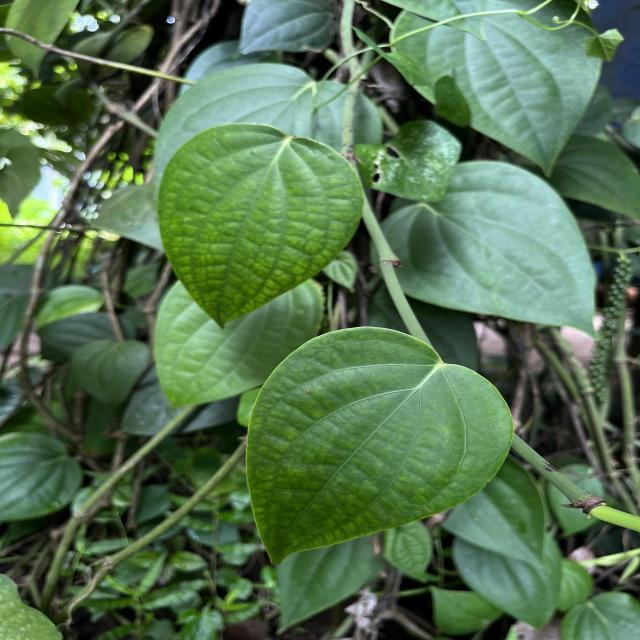Piper nigrum: (244, 324, 517, 567), (157, 122, 366, 332)
